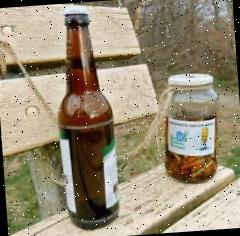glass: (49, 0, 226, 235)
